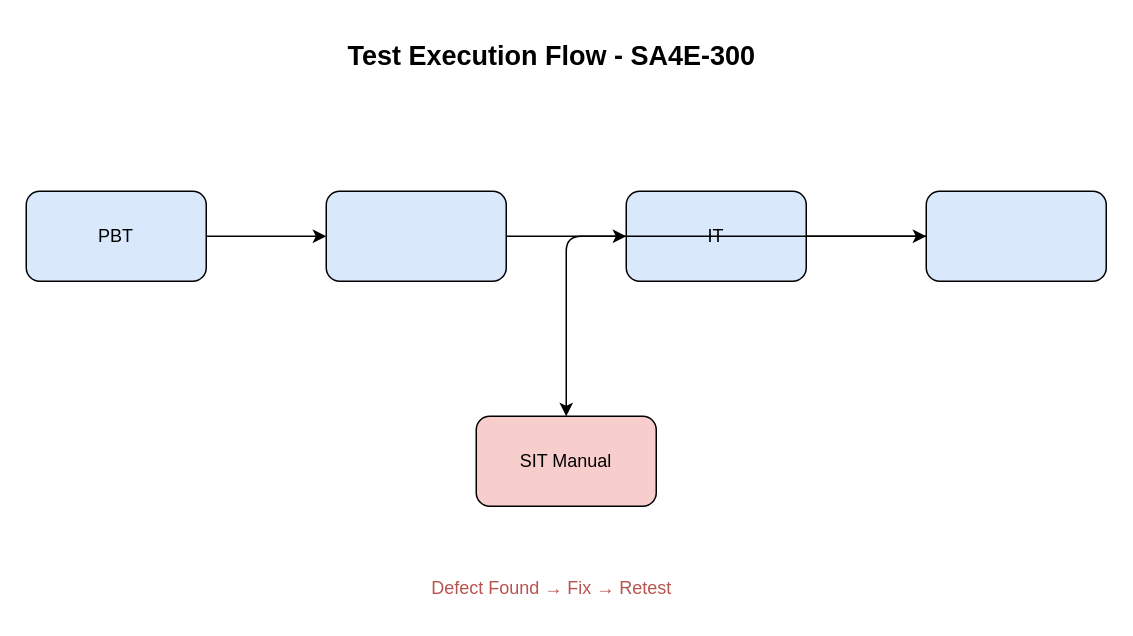
Some shapes in this 1133 by 636 pixel diagram are drawn without their labels. Here are the shapes that lost their labels. From the top down, the box of each, then its label:
(325, 190, 506, 281): UT
(925, 190, 1106, 281): E2E-API
